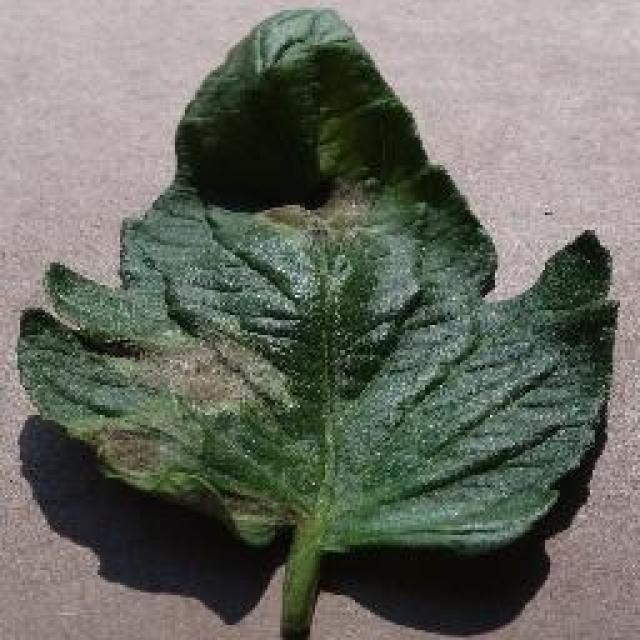Tomato late blight leaf: (13, 5, 622, 557)
